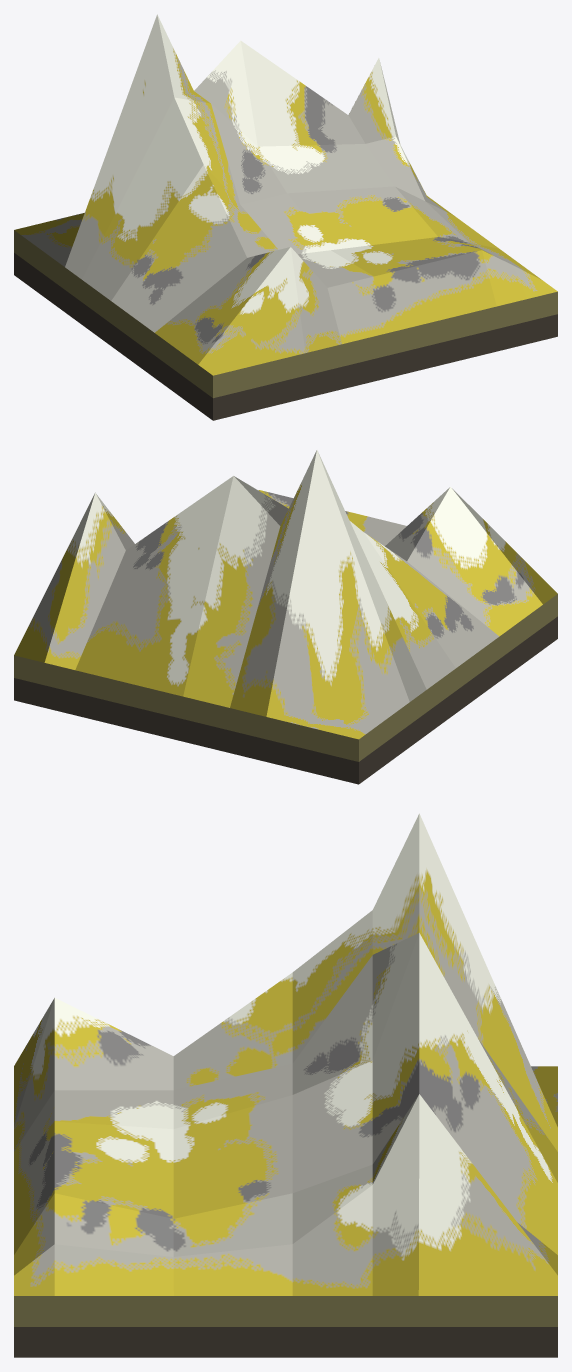
File: tile2_2 mountain.fbx
3 views of the same model, one above another, from view 1: azimuth 30°, elevation 25°; view 2: azimuth 150°, elevation 25°; view 3: azimuth 270°, elevation 25° (orthographic). The views are drawn at different scales.
Visible parts, largest first — view 1: Cube.001; view 2: Cube.001; view 3: Cube.001.
Part boxes in pixels (x1,y1,x2,y2): Cube.001: (14,14,557,420); Cube.001: (14,450,557,784); Cube.001: (14,813,557,1357).
Size of the model in its own units: 400 by 305 by 400.
1 material, 1 textured.
